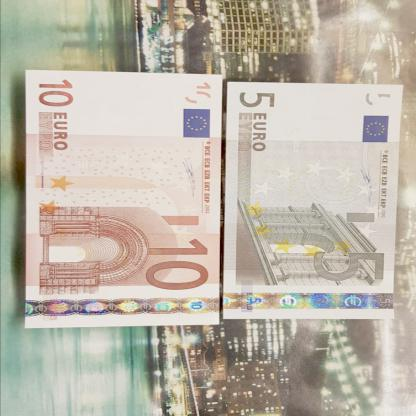euro_banknote: (194, 116, 416, 291)
